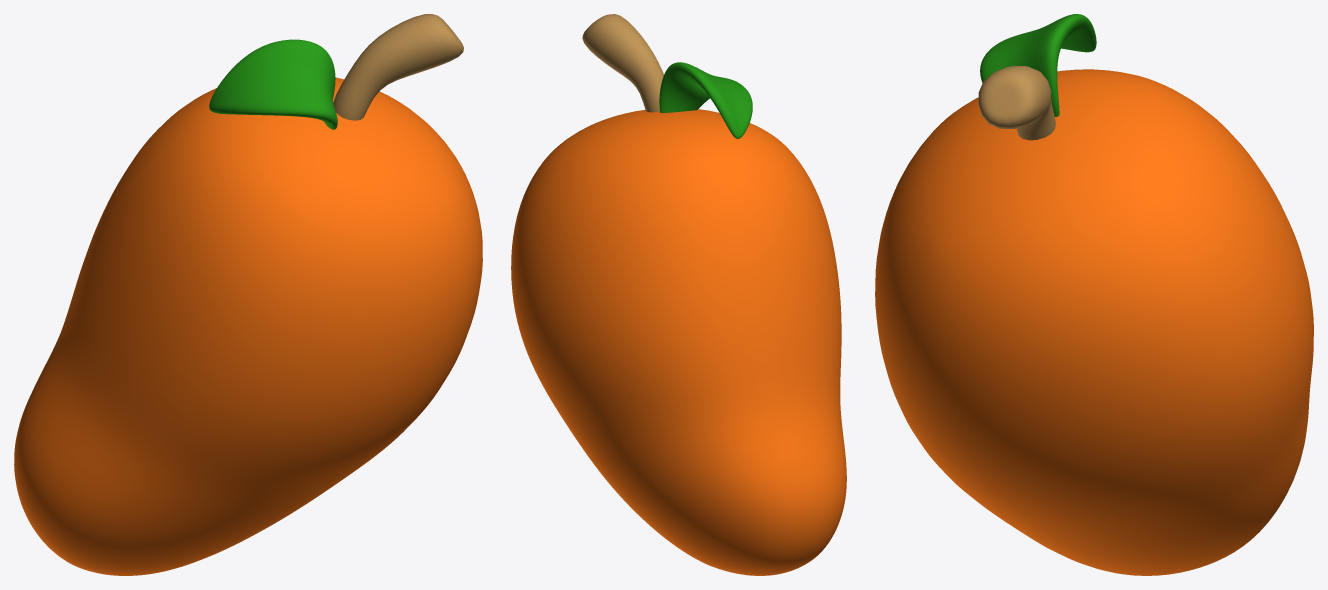
Rendered from Mango.glb.
The picture shows the model from 3 angles, left to right: view 1: azimuth 30°, elevation 25°; view 2: azimuth 150°, elevation 25°; view 3: azimuth 270°, elevation 25°; orthographic projection. The views are drawn at different scales.
Parts seen in each view (by area): view 1: Cube.003, Cube.024, Cube.004; view 2: Cube.003, Cube.004, Cube.024; view 3: Cube.003, Cube.004, Cube.024.
Boxes of the visible parts, left/top/right/bottom form: Cube.003: left=14, top=77, right=482, bottom=575; Cube.024: left=209, top=39, right=337, bottom=129; Cube.004: left=333, top=14, right=463, bottom=120; Cube.003: left=511, top=109, right=846, bottom=575; Cube.004: left=582, top=14, right=663, bottom=112; Cube.024: left=659, top=62, right=752, bottom=138; Cube.003: left=875, top=69, right=1313, bottom=575; Cube.004: left=978, top=66, right=1055, bottom=140; Cube.024: left=980, top=14, right=1096, bottom=116.
Bounding box in the file's own units: 2.79 × 3.72 × 2.4.
